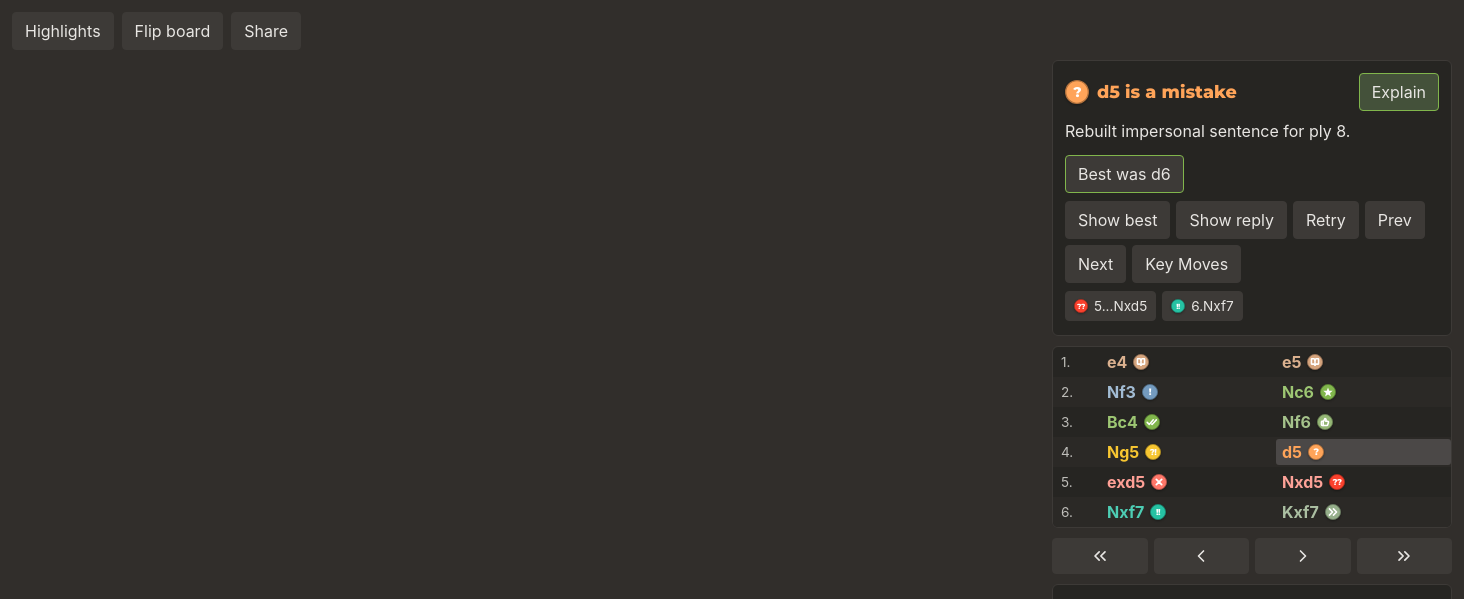
Test: CoachBox (R26) › Retry mode enables the board and shows the prompt; the feedback mapping is in reviewStore.test.ts
This screenshot has width=1464, height=599.
What coordinates should you click on to do the following:
click the button with test id "retry"
I would click on:
 (1326, 220)
Its box is [1293,201,1359,239].
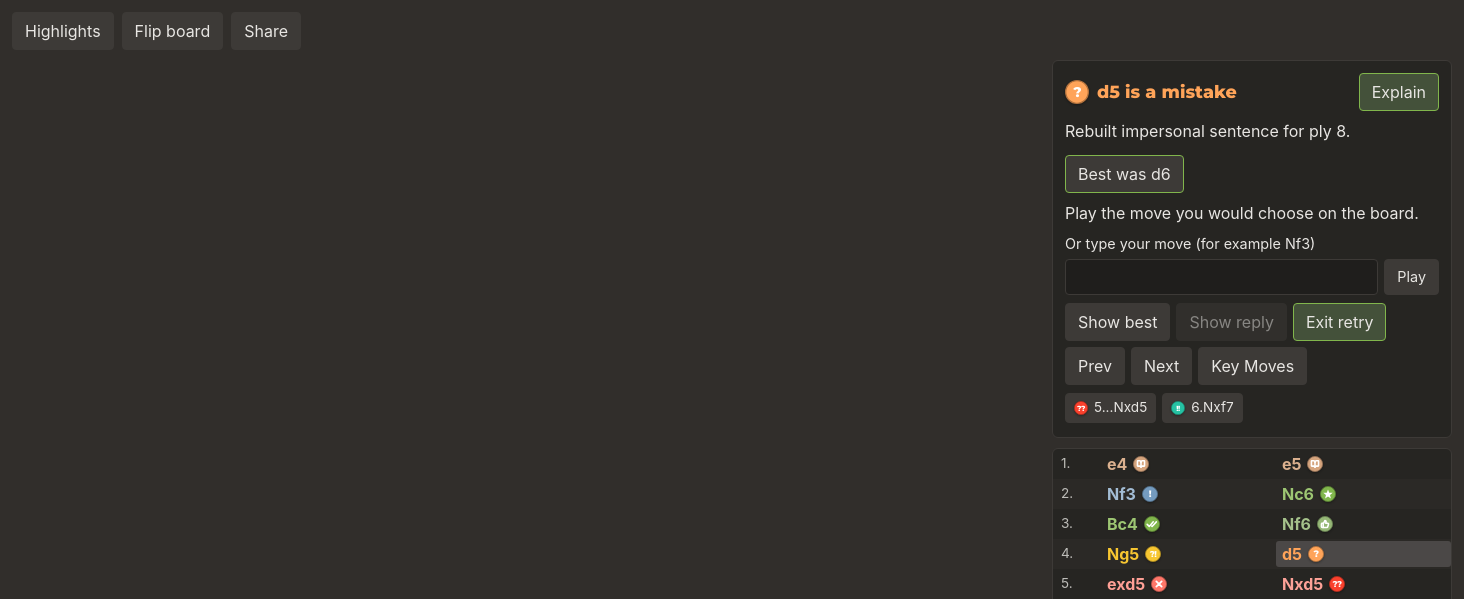
Now the message with test id "retry-feedback" reads "Play the move you would choose on the board.", box [1065,203,1419,223]
